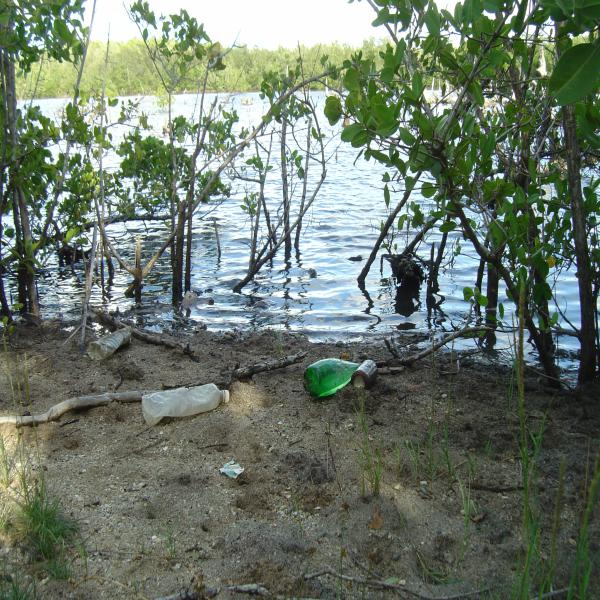bottles: (140, 381, 228, 428), (303, 358, 362, 398), (87, 325, 131, 359)
others: (219, 459, 244, 478)
